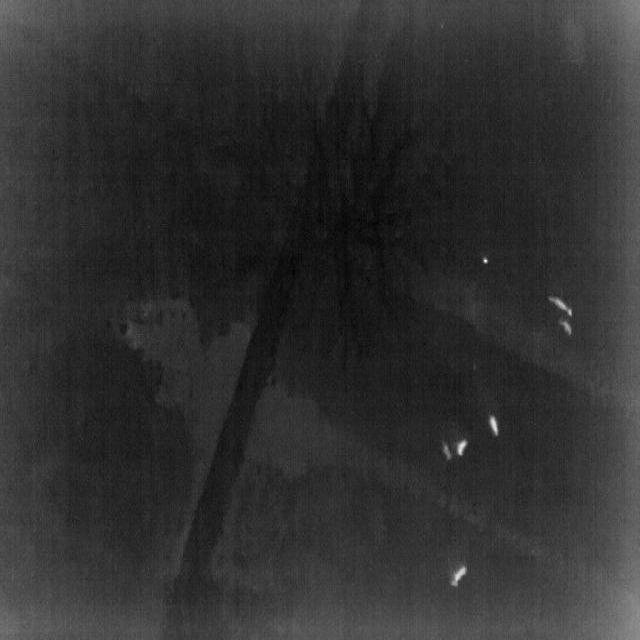deer: (546, 294, 572, 316), (448, 564, 468, 588), (487, 415, 500, 438), (558, 318, 573, 337), (455, 438, 469, 458), (441, 439, 453, 462)
